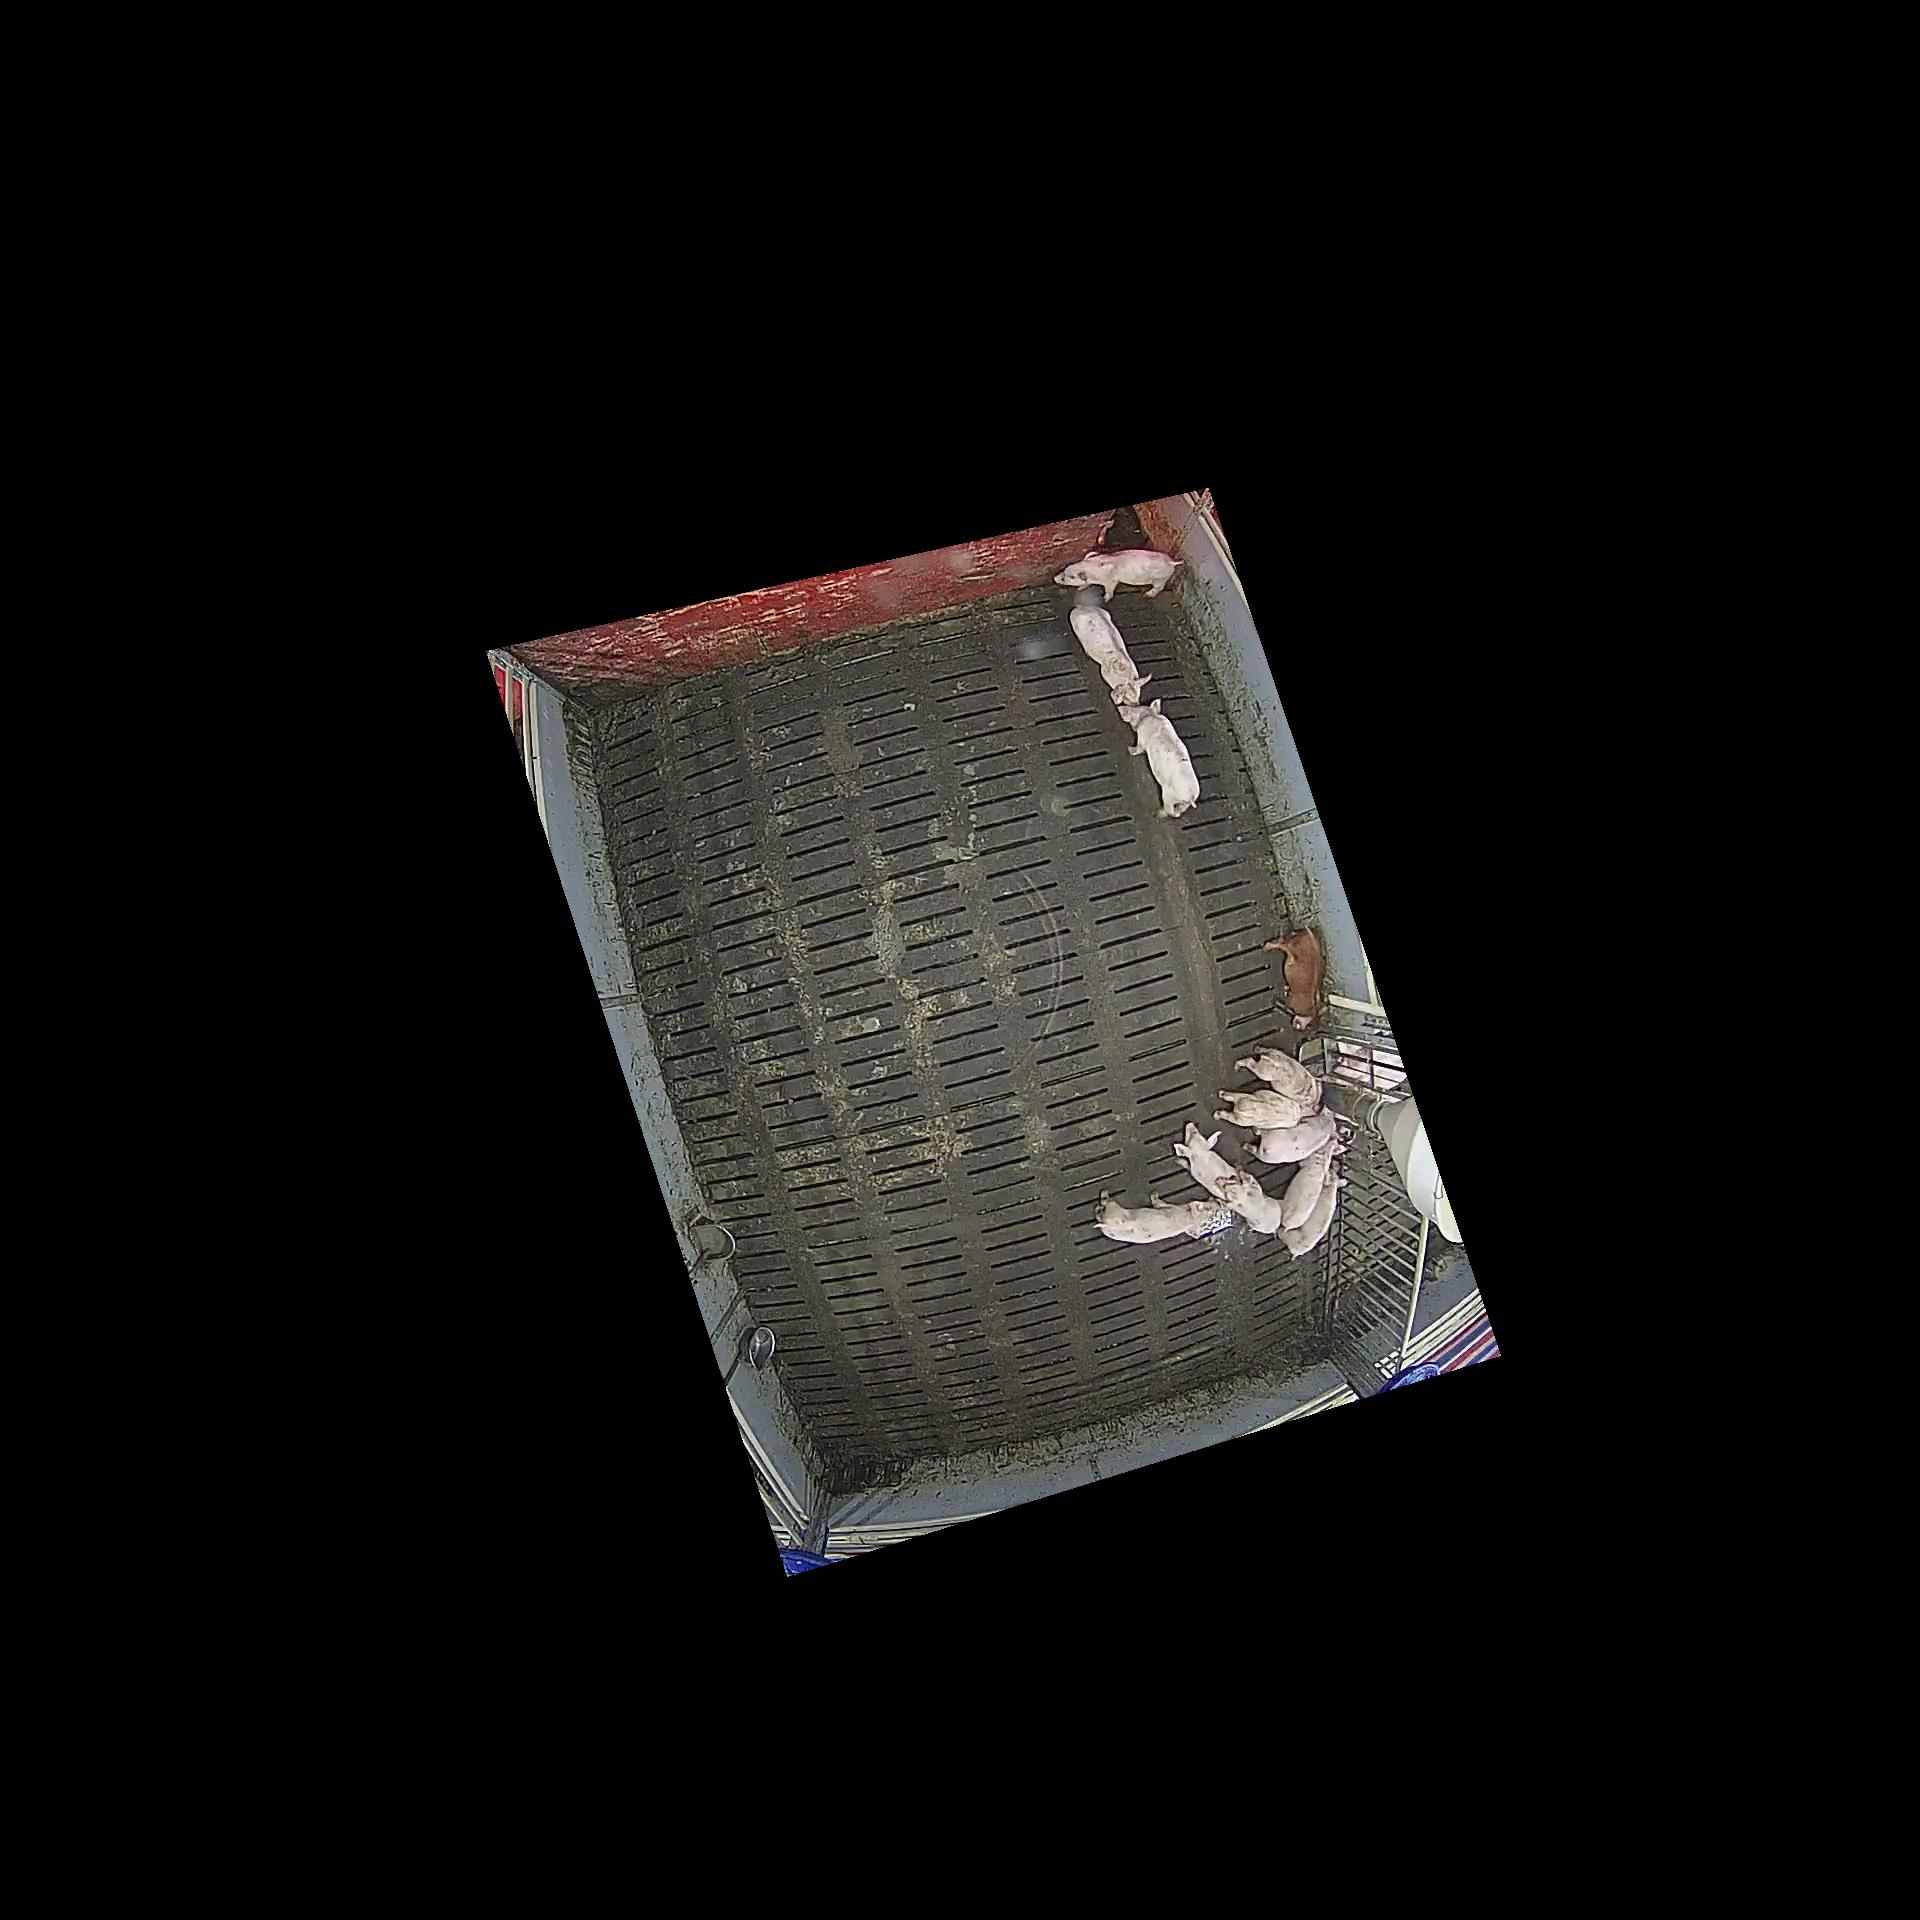pig: (1116, 698, 1199, 818), (1069, 601, 1152, 705), (1055, 549, 1183, 603), (1262, 927, 1327, 1030), (1094, 1190, 1217, 1245), (1276, 1139, 1345, 1231), (1276, 1166, 1343, 1259), (1234, 1044, 1322, 1104), (1243, 1108, 1338, 1162), (1175, 1122, 1236, 1199), (1213, 1169, 1278, 1233), (1213, 1090, 1315, 1127)
